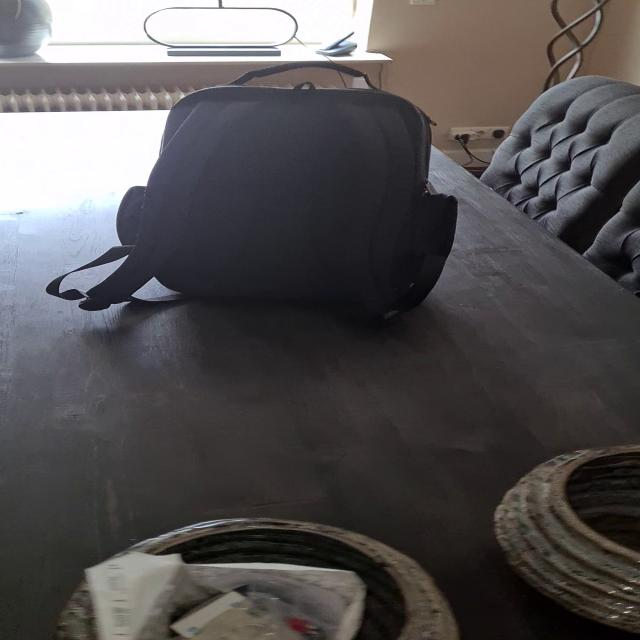backpack: (106, 50, 470, 334)
